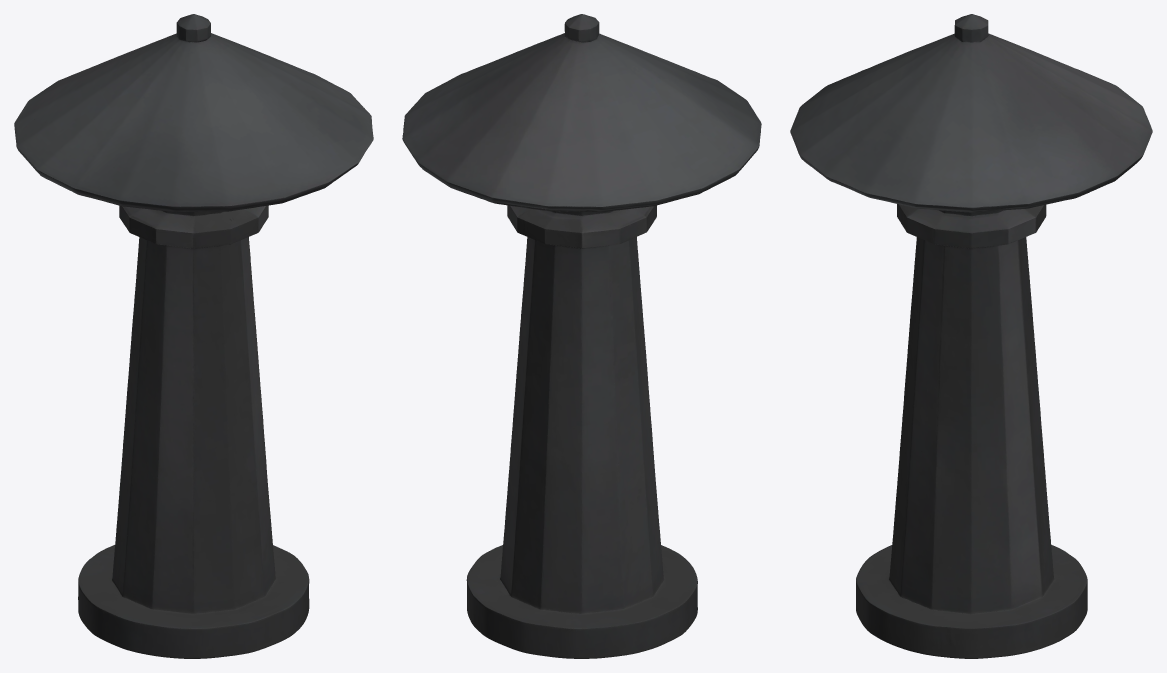
File: bishop.glb
3 renders of one model, left to right at view 1: azimuth 30°, elevation 25°; view 2: azimuth 150°, elevation 25°; view 3: azimuth 270°, elevation 25°, orthographic.
Parts seen in each view (by area): view 1: Black Kasa Bishop; view 2: Black Kasa Bishop; view 3: Black Kasa Bishop.
Part boxes in pixels (left/top/right/bottom): Black Kasa Bishop: left=14, top=14, right=373, bottom=658; Black Kasa Bishop: left=402, top=14, right=761, bottom=658; Black Kasa Bishop: left=790, top=14, right=1152, bottom=658.
Bounding box in the file's own units: 1.05 × 1.9 × 1.05.
Materials: 1 (1 with a texture image).
